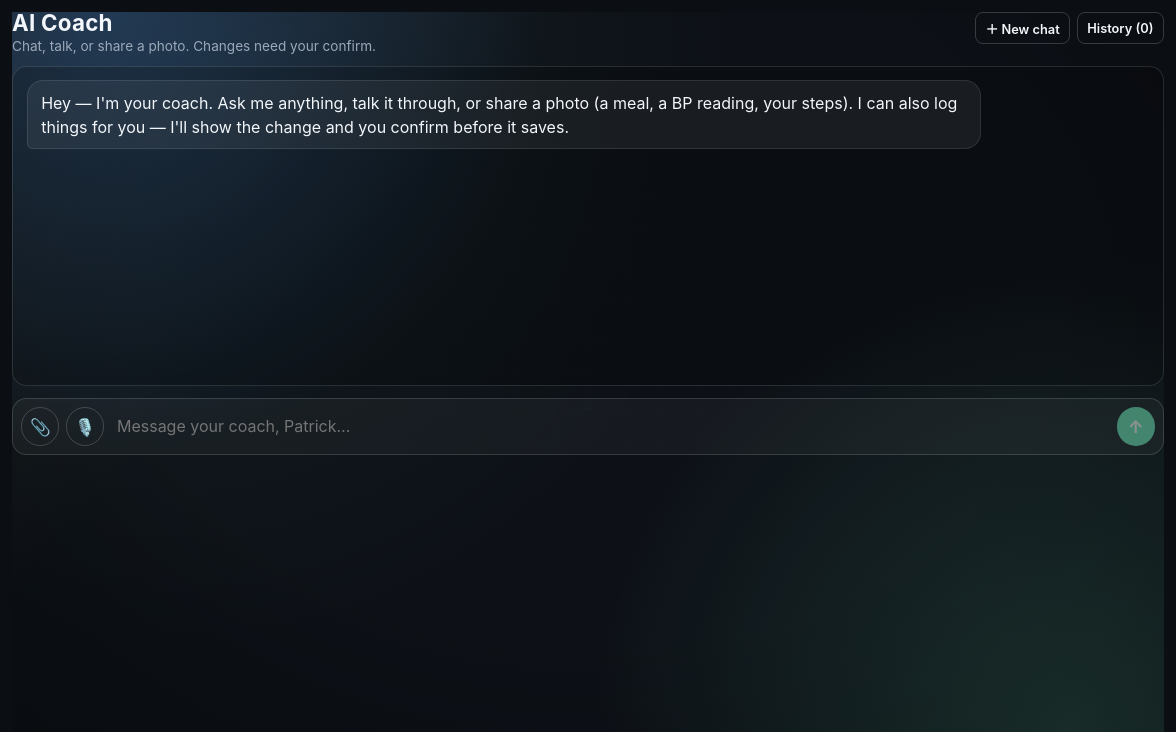
AICoachPanel › shows a safe error when the chat request fails
This screenshot has width=1176, height=732.
Type "Help" into the text box labelled "Message" at (610, 426), box left=111, top=407, right=1110, bottom=446
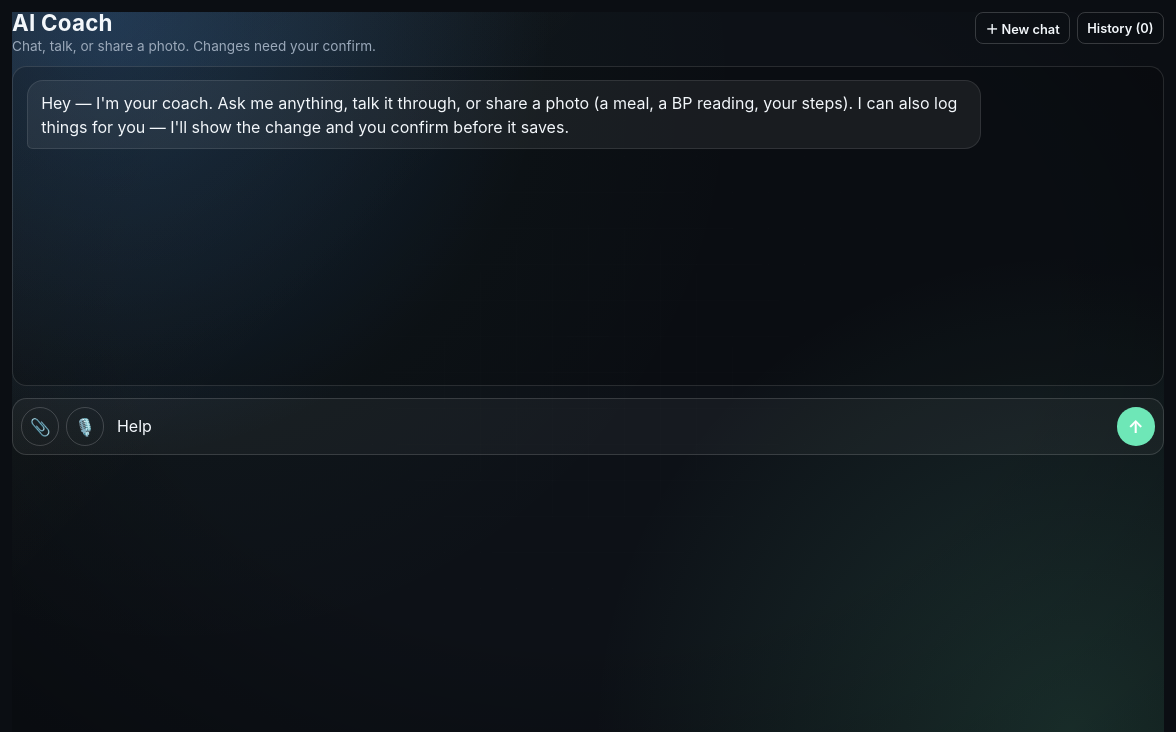
Click the button named "Send" at (1136, 427), box left=1117, top=407, right=1155, bottom=446
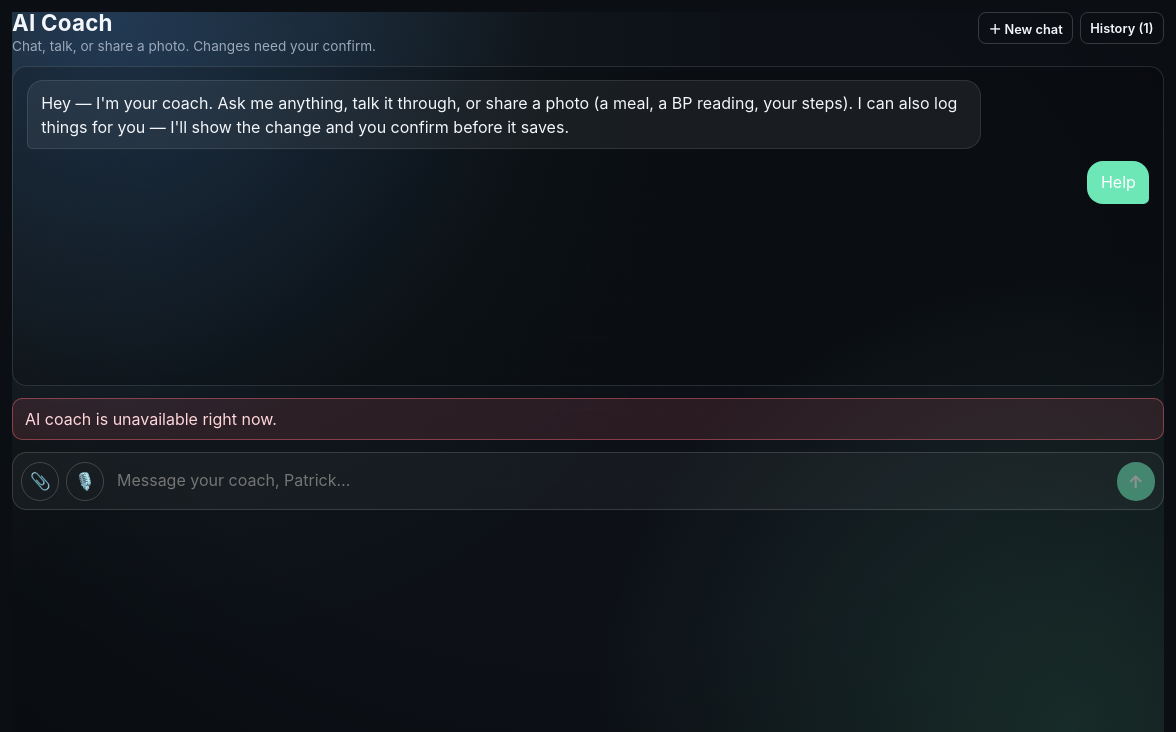
expect the message reads "AI coach is unavailable right now.": met, box left=25, top=409, right=277, bottom=429
